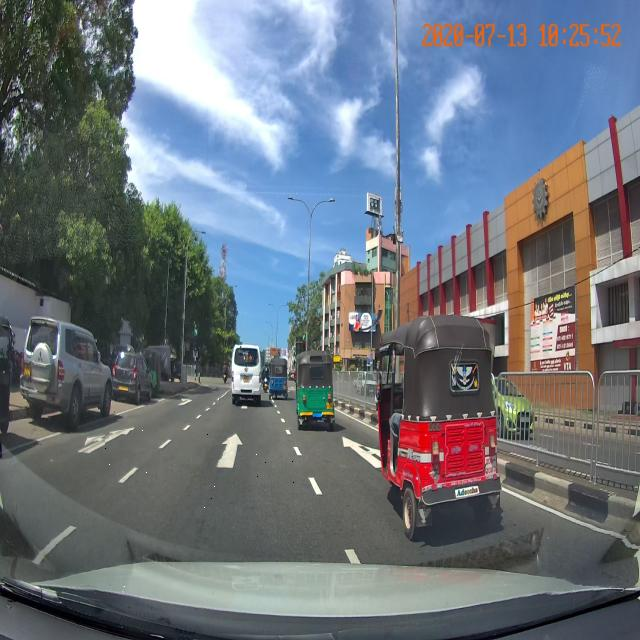forward: (105, 430, 327, 508)
